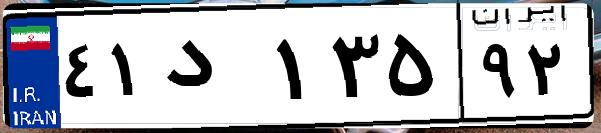1: (270, 28, 330, 110), (110, 28, 158, 98)
2: (525, 38, 570, 115)
3: (330, 28, 385, 110)
4: (57, 26, 110, 100)
5: (385, 28, 445, 110)
9: (475, 38, 525, 113)
د: (158, 20, 270, 120)
